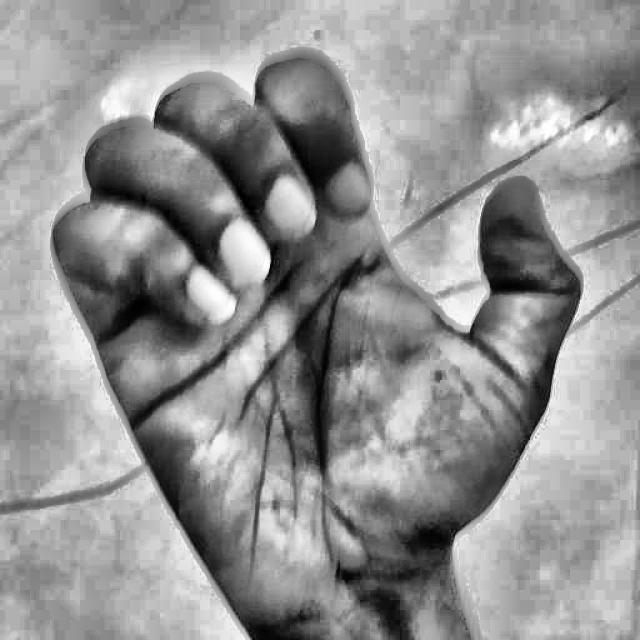Dho: (25, 36, 603, 622)
